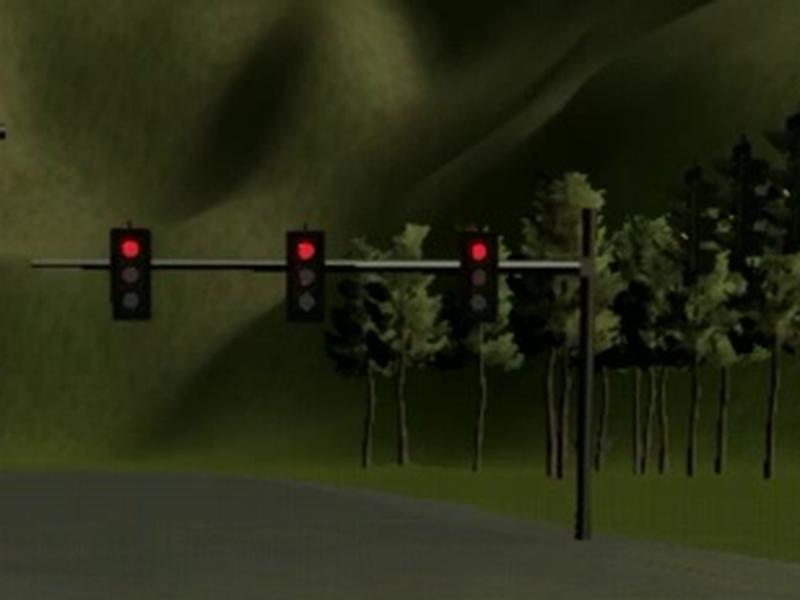Red: (113, 226, 152, 316), (288, 233, 324, 321), (462, 234, 497, 324)
